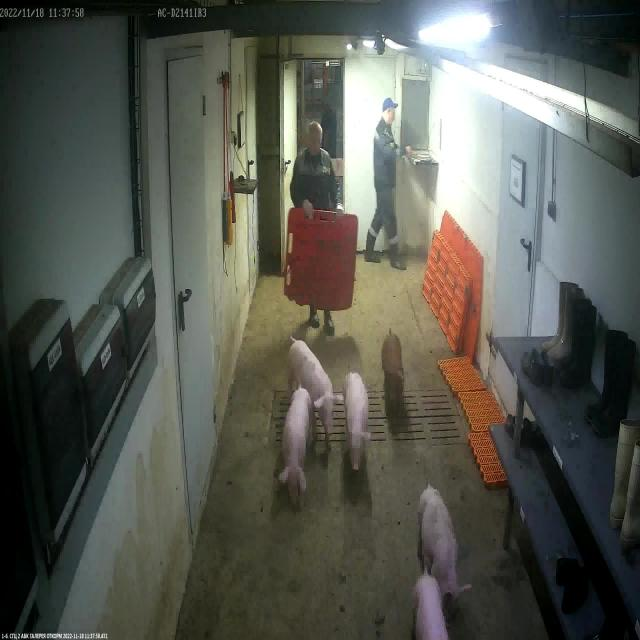pig: (418, 483, 470, 615), (288, 337, 344, 443), (280, 388, 312, 508), (342, 370, 370, 475), (383, 333, 404, 412)
